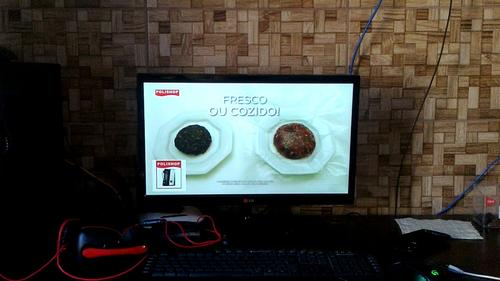Polishop #1: (151, 159, 186, 192)
